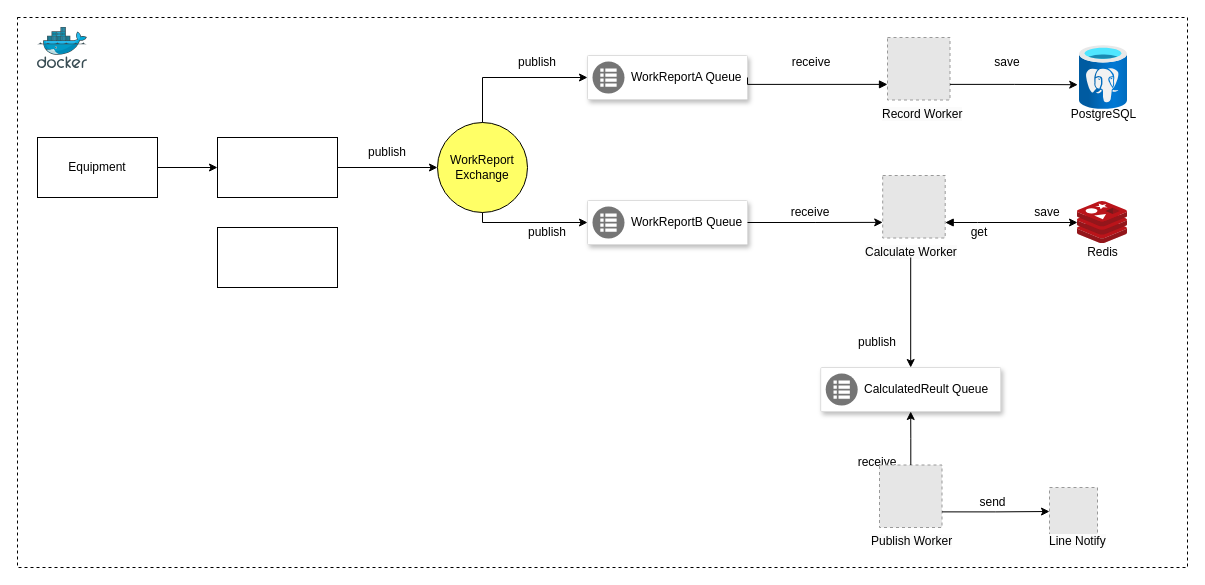
This 1205x585 diagram has some shape labels left out. Grey dashed boxes stand in for pictures. The shapes that lost their labels are listed below. From the top down, each one's centre as x and y in pixels, then its label:
At pixel 277 167: "Report API".
At pixel 277 257: "ElasticSearchAPI".
